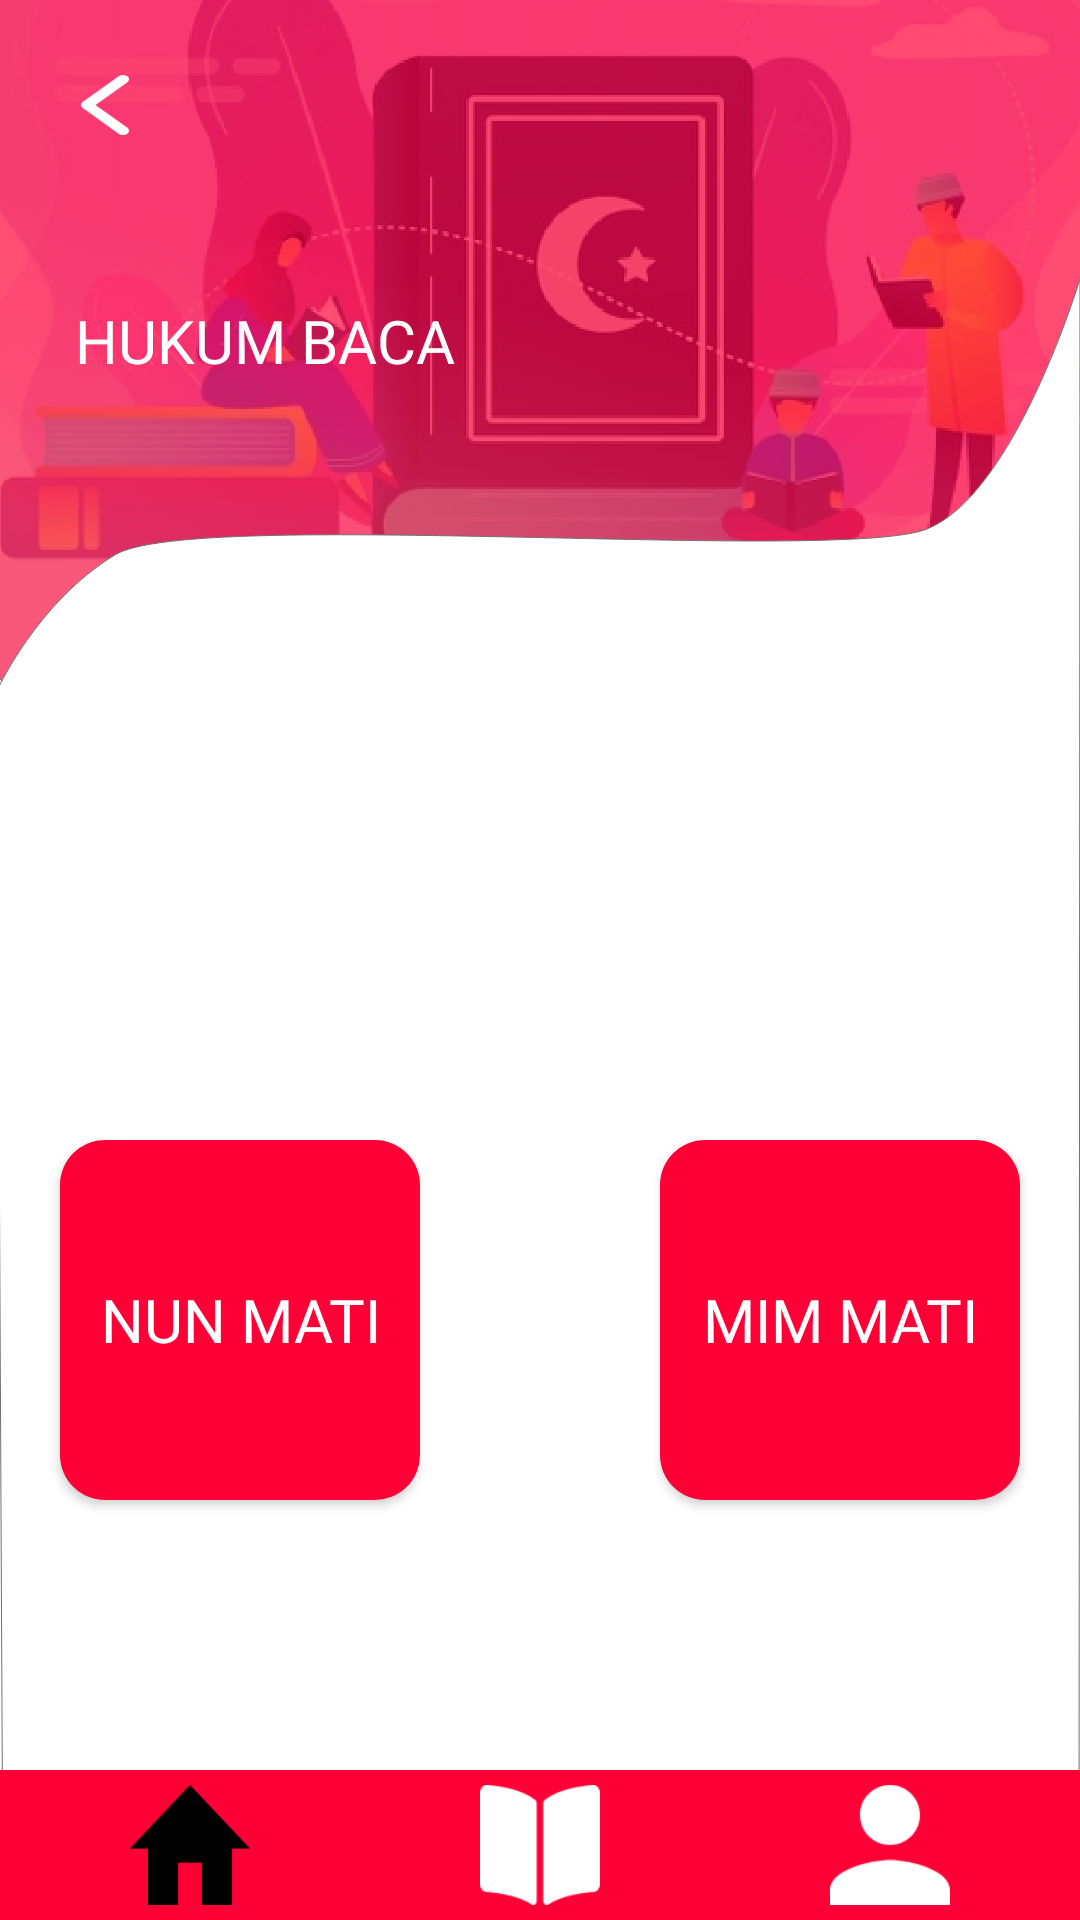

Where to tap for icons on this 1080 x 1920 app screen, as (x,y):
akun: (890,1845)
back: (105,105)
home: (190,1845)
